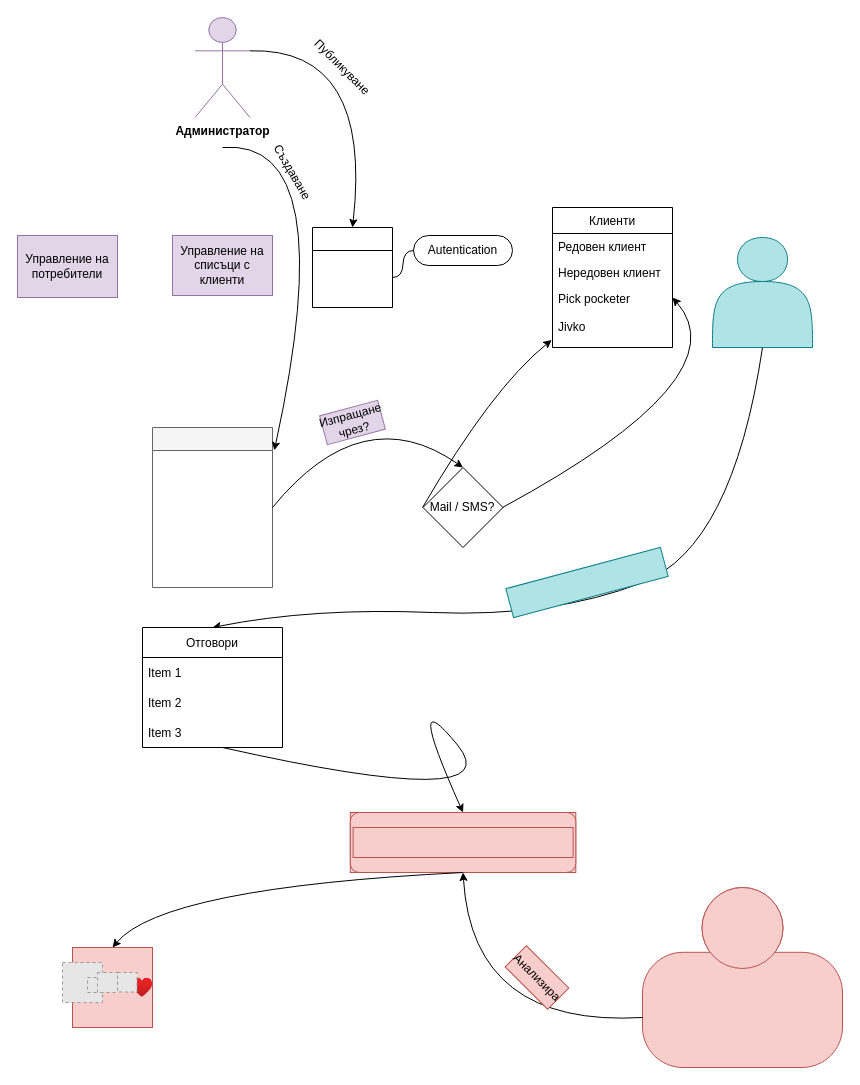
This 860x1085 diagram has some shape labels left out. Grey dashed boxes stand in for pictures. The box of each missing label's shape, as (x1, y1, x2, y2) in pixels:
Data analyst []: (642, 886, 842, 1068)
Login: (312, 226, 392, 308)
Quiz: (152, 426, 272, 588)
Експорт на данните в Excel и CSV: (352, 826, 573, 858)
Попълване на въпросника: (505, 546, 668, 618)
